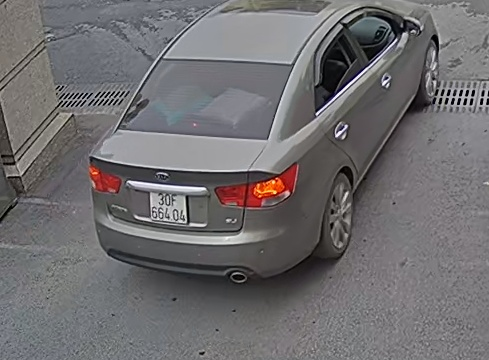vehicle plate: (147, 184, 190, 232)
